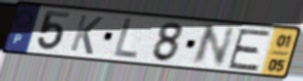5: (36, 9, 74, 53)
8: (151, 21, 185, 63)
E: (225, 27, 273, 72)
K: (67, 13, 106, 57)
L: (111, 16, 140, 62)
N: (188, 24, 238, 67)
